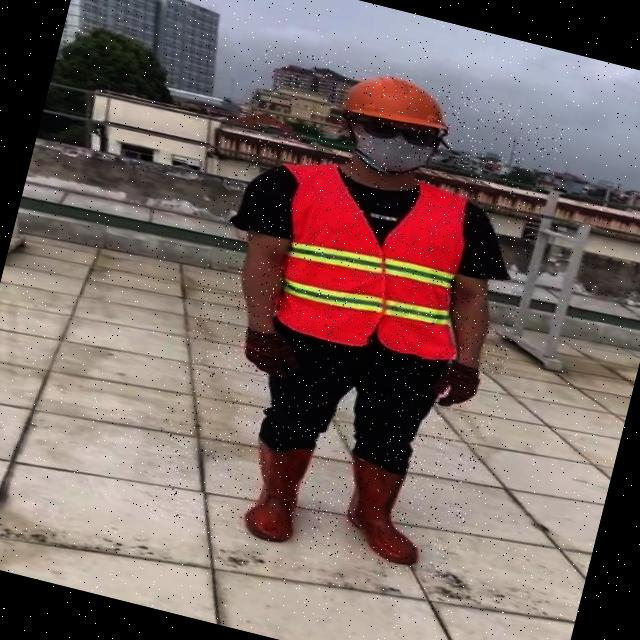boots: (330, 452, 439, 566), (236, 434, 315, 545)
helmet: (334, 61, 466, 145)
vest: (258, 156, 487, 368)
